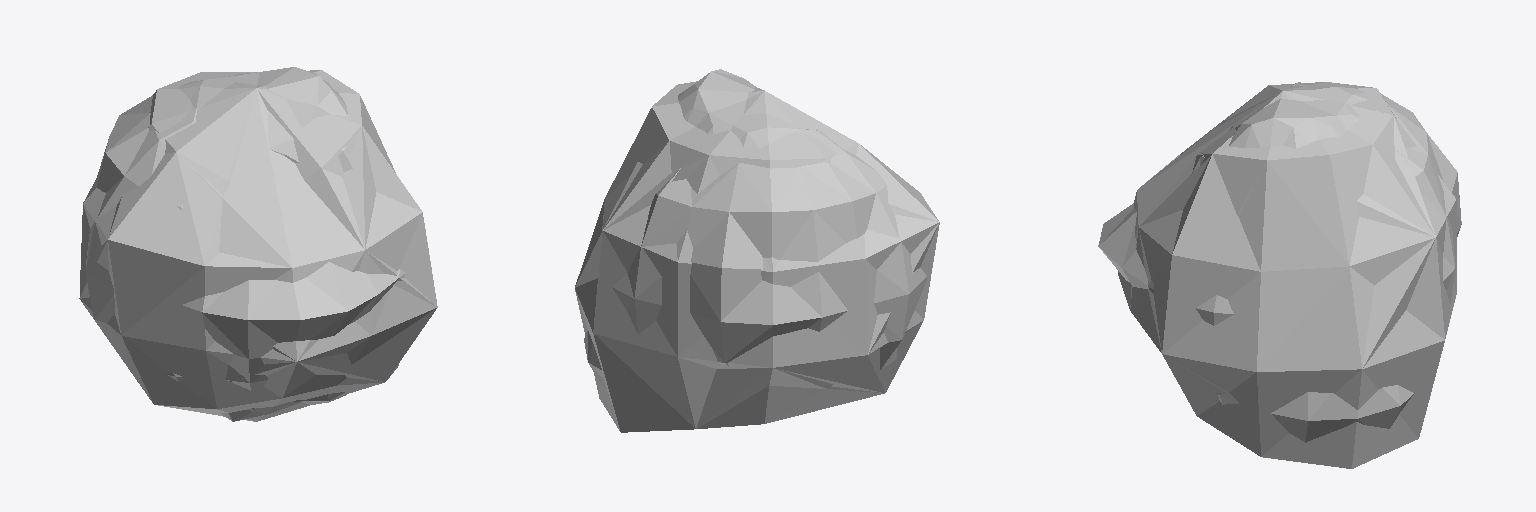
The model's file is stone.obj.
The picture shows the model from 3 angles: view 1: azimuth 30°, elevation 25°; view 2: azimuth 150°, elevation 25°; view 3: azimuth 270°, elevation 25°; orthographic projection.
Visible parts, largest first — view 1: Stone_Pack1_Stone_2; view 2: Stone_Pack1_Stone_2; view 3: Stone_Pack1_Stone_2.
Part boxes in pixels (x1,y1,x2,y2): Stone_Pack1_Stone_2: (79,67,437,421); Stone_Pack1_Stone_2: (575,69,939,432); Stone_Pack1_Stone_2: (1098,82,1461,468).
Size of the model in its own units: 103 by 103 by 102.